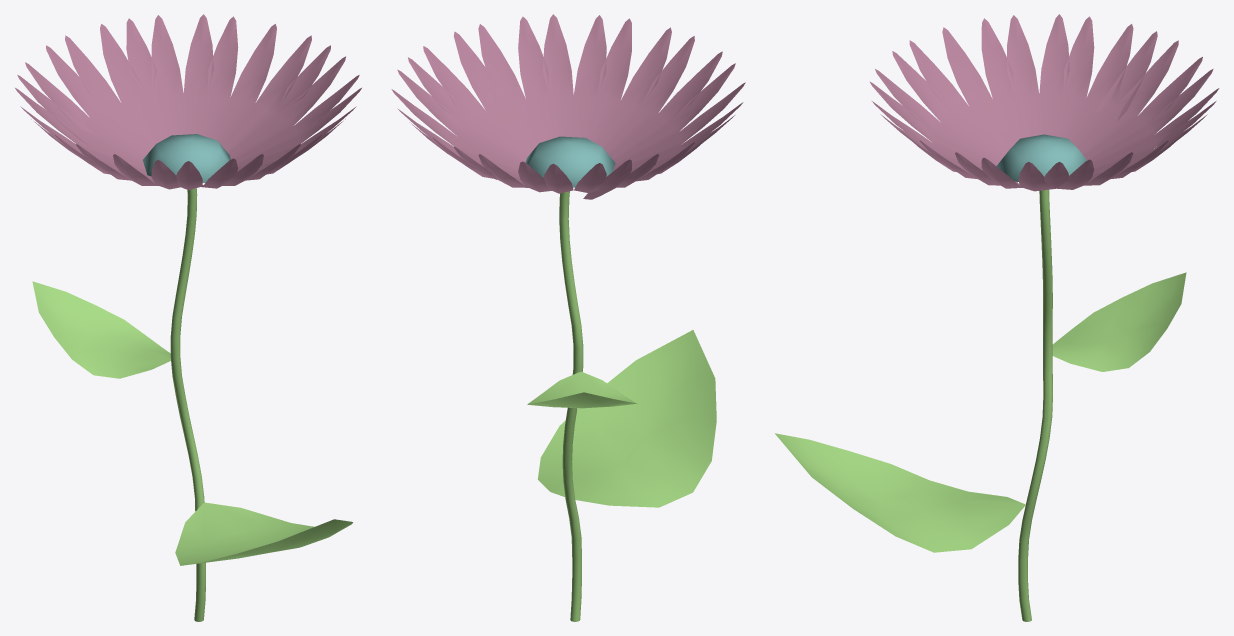
Rendered from SM_Flower04.fbx.
3 views of the same model, side by side, from view 1: azimuth 30°, elevation 25°; view 2: azimuth 150°, elevation 25°; view 3: azimuth 270°, elevation 25° (orthographic). The views are drawn at different scales.
Parts seen in each view (by area): view 1: SM_Flower004; view 2: SM_Flower004; view 3: SM_Flower004.
Part boxes in pixels (x1,y1,x2,y2): SM_Flower004: [15, 14, 361, 621]; SM_Flower004: [391, 14, 745, 621]; SM_Flower004: [775, 14, 1219, 621].
Size of the model in its own units: 27.04 by 45.32 by 34.44.
